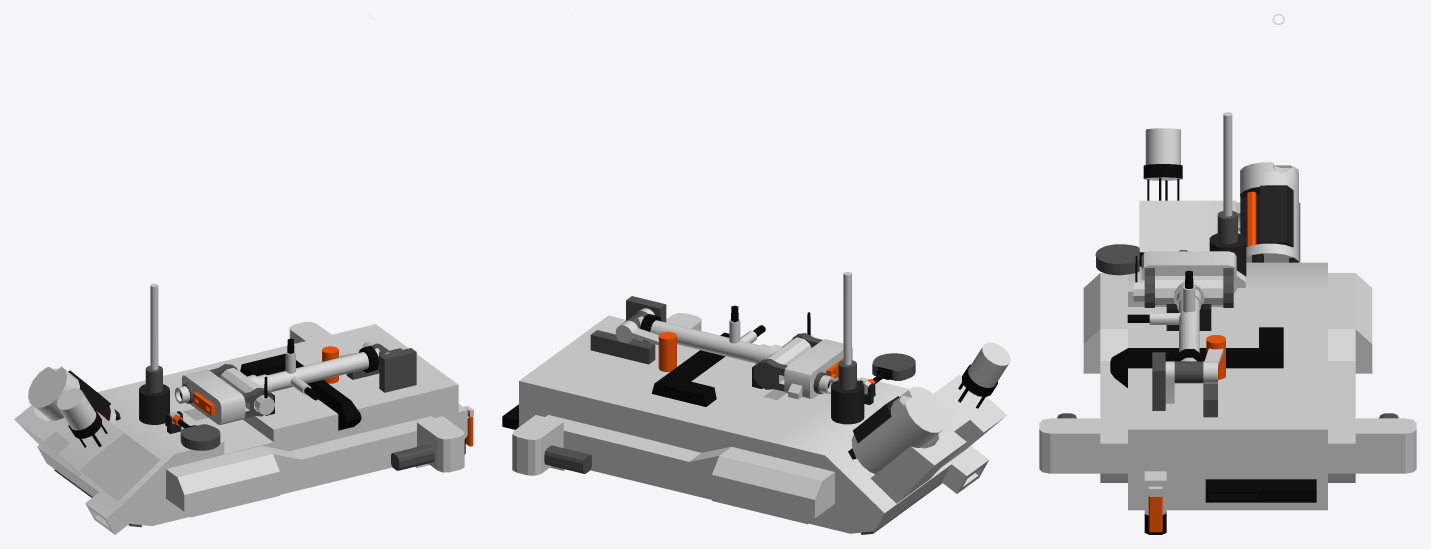
Rendered from Cuerpo.obj.
3 renders of one model, left to right at view 1: azimuth 30°, elevation 25°; view 2: azimuth 150°, elevation 25°; view 3: azimuth 270°, elevation 25°, orthographic. The views are drawn at different scales.
Visible parts, largest first — view 1: Cuerpo_SpacialRoverExploreralumWhite, Cuerpo_SpacialRoverExploreralumGray, Cuerpo_SpacialRoverExploreralumBlack, Cuerpo_SpacialRoverExploreralumGrayDeep, Cuerpo_SpacialRoverExploreralumOrange; view 2: Cuerpo_SpacialRoverExploreralumWhite, Cuerpo_SpacialRoverExploreralumGray, Cuerpo_SpacialRoverExploreralumBlack, Cuerpo_SpacialRoverExploreralumGrayDeep, Cuerpo_SpacialRoverExploreralumOrange; view 3: Cuerpo_SpacialRoverExploreralumWhite, Cuerpo_SpacialRoverExploreralumBlack, Cuerpo_SpacialRoverExploreralumGray, Cuerpo_SpacialRoverExploreralumGrayDeep, Cuerpo_SpacialRoverExploreralumOrange.
Boxes of the visible parts, x1,y1,x2,y2 form: Cuerpo_SpacialRoverExploreralumWhite: (14,14,473,534); Cuerpo_SpacialRoverExploreralumGray: (54,343,434,527); Cuerpo_SpacialRoverExploreralumBlack: (68,338,465,454); Cuerpo_SpacialRoverExploreralumGrayDeep: (68,370,274,433); Cuerpo_SpacialRoverExploreralumOrange: (93,346,473,446); Cuerpo_SpacialRoverExploreralumWhite: (512,271,1010,533); Cuerpo_SpacialRoverExploreralumGray: (544,296,942,534); Cuerpo_SpacialRoverExploreralumBlack: (502,305,997,429); Cuerpo_SpacialRoverExploreralumGrayDeep: (752,364,898,459); Cuerpo_SpacialRoverExploreralumOrange: (658,331,875,383); Cuerpo_SpacialRoverExploreralumWhite: (1039,14,1416,515); Cuerpo_SpacialRoverExploreralumBlack: (1110,164,1316,534); Cuerpo_SpacialRoverExploreralumGray: (1057,211,1398,418); Cuerpo_SpacialRoverExploreralumGrayDeep: (1166,185,1298,494); Cuerpo_SpacialRoverExploreralumOrange: (1148,191,1256,532).
Size of the model in its own units: 10.27 by 9.84 by 6.8.
